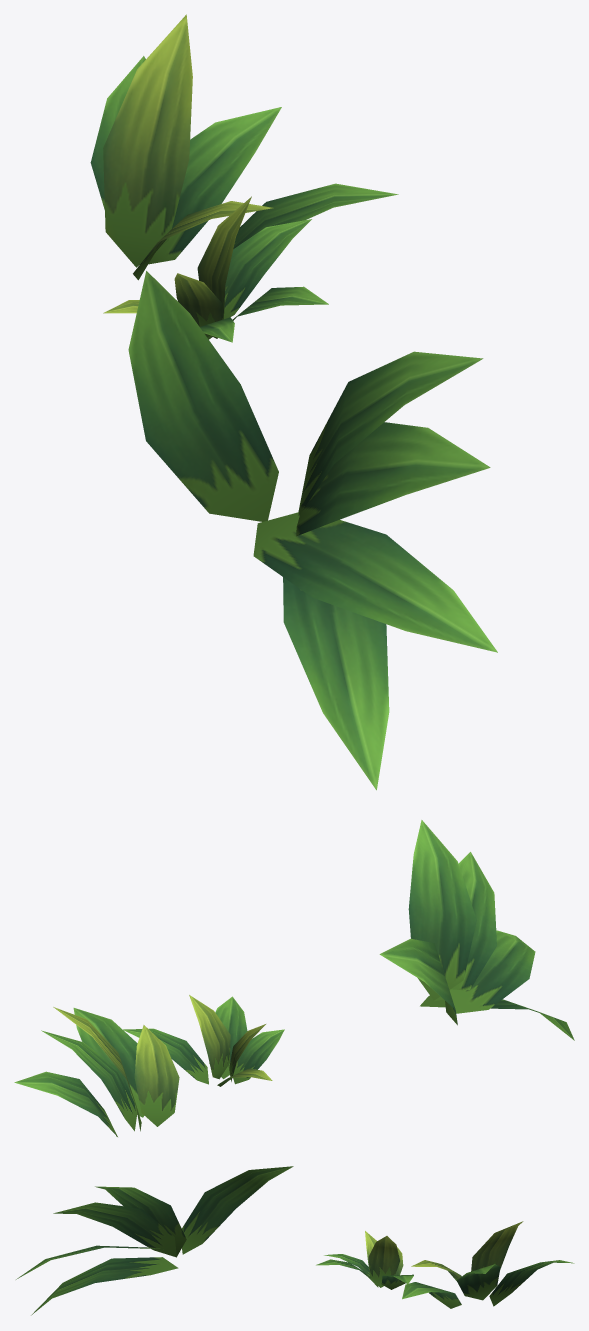
File: scenes_demo_sideplant01b.FBX
3 renders of one model, top to bottom at view 1: azimuth 30°, elevation 25°; view 2: azimuth 150°, elevation 25°; view 3: azimuth 270°, elevation 25°, orthographic. The views are drawn at different scales.
Parts seen in each view (by area): view 1: scenes_demo_sideplant01b; view 2: scenes_demo_sideplant01b; view 3: scenes_demo_sideplant01b.
Boxes of the visible parts, bbox=[...] form: scenes_demo_sideplant01b: bbox=[90, 14, 497, 790]; scenes_demo_sideplant01b: bbox=[14, 820, 574, 1136]; scenes_demo_sideplant01b: bbox=[16, 1166, 574, 1315].
Size of the model in its own units: 186 by 146 by 430.
